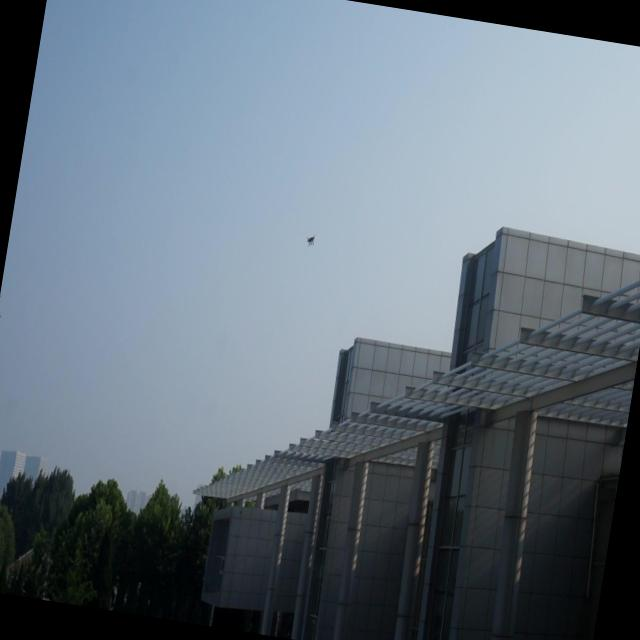drone: (302, 229, 320, 250)
